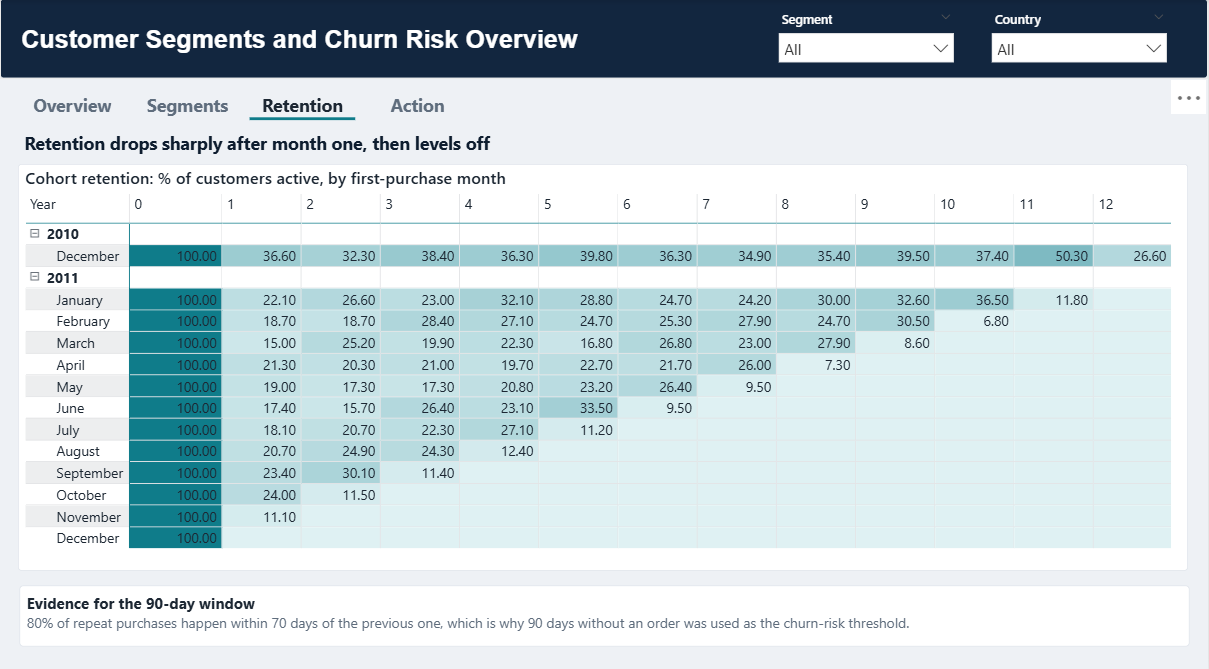

Layout of this report page (visuals, bound fields, positions):
{"tool":"powerbi","page":{"name":"Retention","canvas":[1280,720],"ordinal":2},"visuals":[{"type":"textbox","box":[0,0,1280.8,84.2],"z":0},{"type":"slicer","fields":{"Values":["rfm_segments_202609240918_SKU.customer_segment"]},"box":[816,6.4,205.2,70],"z":1000},{"type":"slicer","fields":{"Values":["rfm_segments_202609240918_SKU.Country"]},"box":[1041.9,6.4,205.2,70],"z":2000},{"type":"pageNavigator","box":[20.7,95,480.4,33.4],"z":3000},{"type":"textbox","box":[20.7,135,723.7,42.9],"z":4000},{"type":"pivotTable","title":"Cohort retention: % of customers active, by first-purchase month","fields":{"Columns":["cohort_retention_202609291141_Aug2026.month_number"],"Values":["Avg(cohort_retention_202609291141_Aug2026.retention_pct)"],"Rows":["cohort_retention_202609291141_Aug2026.cohort_label.Variation.Date Hierarchy.Year","cohort_retention_202609291141_Aug2026.cohort_label.Variation.Date Hierarchy.Month"]},"box":[19.1,175.7,1240.6,431.5],"z":5000},{"type":"textbox","box":[20.9,621.2,1240.6,64.4],"z":6000}]}

Visuals, with their boxes in screenshot pixels (x1, y1, x2, y2), scaled from the page's 1280x720 canvas onto the 1209x669 screenshot:
textbox: x1=0 y1=0 x2=1208 y2=78
slicer - rfm_segments_202609240918_SKU.customer_segment: x1=771 y1=6 x2=965 y2=71
slicer - rfm_segments_202609240918_SKU.Country: x1=984 y1=6 x2=1178 y2=71
pageNavigator: x1=20 y1=88 x2=473 y2=119
textbox: x1=20 y1=125 x2=703 y2=165
"Cohort retention: % of customers active, by first-purchase month" pivotTable: x1=18 y1=163 x2=1190 y2=564
textbox: x1=20 y1=577 x2=1192 y2=637
